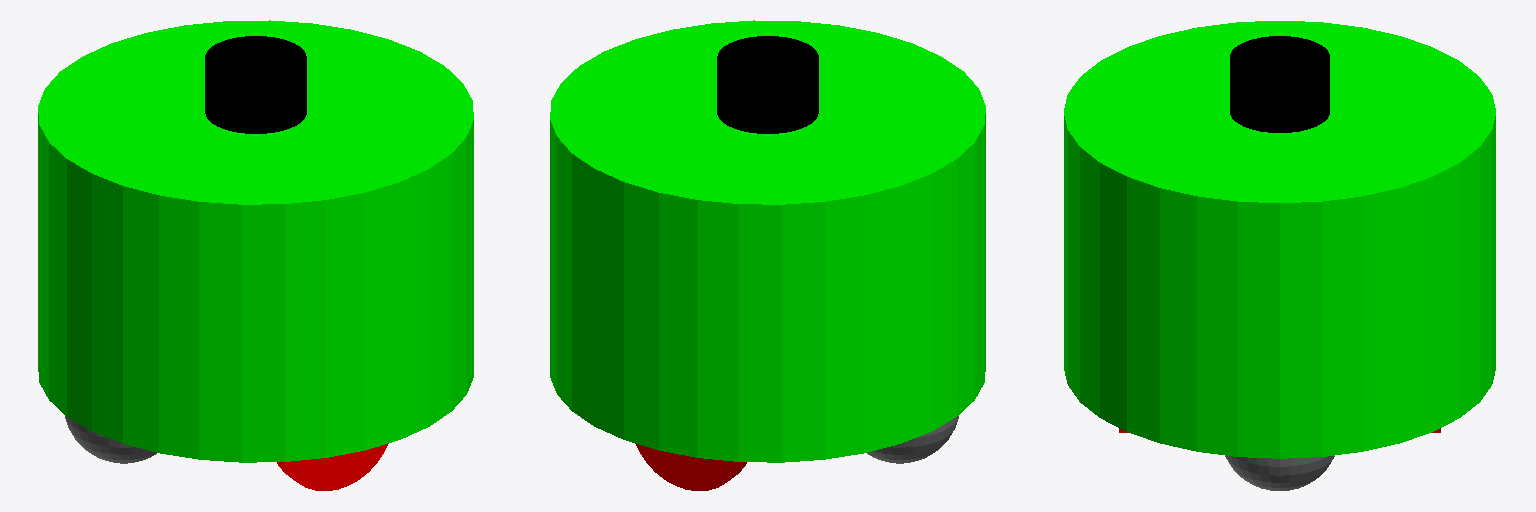
robot.urdf — barrelbot:
<?xml version="1.0" ?>
<!-- =================================================================================== -->
<!-- |    This document was autogenerated by xacro from barrelbot.xacro                | -->
<!-- |    EDITING THIS FILE BY HAND IS NOT RECOMMENDED                                 | -->
<!-- =================================================================================== -->
<robot name="barrelbot">
  <!--xacro:include filename="$(find littlebot)/urdf/_d435i.urdf.xacro"/-->
  <!-- Specify some standard inertial calculations https://en.wikipedia.org/wiki/List_of_moments_of_inertia -->
  <!-- These make use of xacro's mathematical functionality -->
  <!-- MATERIALS -->
  <material name="green">
    <color rgba="0 1 0 1"/>
  </material>
  <material name="black">
    <color rgba="0 0 0 1"/>
  </material>
  <material name="red">
    <color rgba="1 0 0 1"/>
  </material>
  <material name="gray">
    <color rgba="0.5 0.5 0.5 1"/>
  </material>
  <!-- base_footprint is a fictitious link(frame) that is on the ground right below base_link origin -->
  <!--link name="base_footprint" /-->
  <!-- BASE (CHASSIS) LINK -->
  <link name="base_link">
    <visual>
      <origin rpy="0 0 0" xyz="0 0 0.14"/>
      <!-- origin is located at the bottom in the center of the cylinder -->
      <geometry>
        <cylinder length="0.28" radius="0.215"/>
      </geometry>
      <material name="green"/>
    </visual>
    <collision>
      <origin rpy="0 0 0" xyz="0 0 0.14"/>
      <!-- origin is located at the bottom in the center of the cylinder -->
      <geometry>
        <cylinder length="0.28" radius="0.215"/>
      </geometry>
    </collision>
    <inertial>
      <origin rpy="0 0 0" xyz="0 0 0.14"/>
      <mass value="3.0"/>
      <inertia ixx="0.054268750000000004" ixy="0.0" ixz="0.0" iyy="0.054268750000000004" iyz="0.0" izz="0.0693375"/>
    </inertial>
  </link>
  <!--joint name="base_joint" type="fixed">
    <origin xyz="0 0 0.16" rpy="0 0 0" />
    <parent link="base_footprint"/>
    <child link="base_link"/>
  </joint-->
  <!-- LIDAR LINK -->
  <joint name="lidar_joint" type="fixed">
    <parent link="base_link"/>
    <child link="lidar_link"/>
    <origin rpy="0 0 0" xyz="0 0 0.31"/>
    <!-- z=0.31 = 0.14(vertical middle of robot body cylinder) +0.17-->
  </joint>
  <link name="lidar_link">
    <visual>
      <geometry>
        <cylinder length="0.06" radius="0.05"/>
      </geometry>
      <material name="black"/>
    </visual>
  </link>
  <!--joint name="base_to_camera" type="fixed">
    <parent link="base_link"/>
    <child link="camera_bottom_screw_frame"/>
    <origin xyz="0.17 0 0.17" rpy="0 0 0"/>
  </joint-->
  <!--link name="camera_link">
    <visual>
      <origin xyz="0 0 0" rpy="0 0 0" />
      <geometry>
        <box size="0.025 0.09 0.025"/>
      </geometry>
      <material name="gray"/>
    </visual>
  </link-->
  <!-- camera D435i model (<joint> block URDF is generated inside _d435i.urdf.xacro->_d435.urdf.xacro) -->
  <!--xacro:sensor_d435i parent="base_link" use_nominal_extrinsics="false">
    <origin xyz="0.17 0 0.31" rpy="0 0 0"/> (z=0.31 = 0.14(vertical middle of robot body cylinder +0.17)
  </xacro:sensor_d435i-->
  <!-- LEFT WHEEL LINK -->
  <joint name="left_wheel_joint" type="continuous">
    <parent link="base_link"/>
    <child link="left_wheel"/>
    <origin rpy="0 0 0" xyz="0 0.15 0"/>
    <!-- left wheel is located 15cm to the left of the center of the robot -->
    <axis xyz="0 1 0"/>
    <!-- axis of rotation is the y-axis -->
  </joint>
  <link name="left_wheel">
    <visual>
      <origin rpy="1.5707963267948966 0 0" xyz="0 0 0"/>
      <!-- pi/2 = 90 degrees or 1.57 radians (1 radian = 57.2958 degrees) -->
      <geometry>
        <cylinder length="0.02" radius="0.065"/>
        <!-- Diamater of the wheel is 130mm, width is 20mm -->
      </geometry>
      <material name="red"/>
    </visual>
    <collision>
      <origin rpy="1.5707963267948966 0 0" xyz="0 0 0"/>
      <!-- pi/2 = 90 degrees or 1.57 radians (1 radian = 57.2958 degrees) -->
      <geometry>
        <cylinder length="0.02" radius="0.065"/>
        <!-- Diamater of the wheel is 130mm, width is 20mm -->
      </geometry>
    </collision>
    <inertial>
      <origin rpy="1.5707963267948966 0 0" xyz="0 0 0"/>
      <mass value="0.1"/>
      <inertia ixx="0.00010895833333333333" ixy="0.0" ixz="0.0" iyy="0.00010895833333333333" iyz="0.0" izz="0.00021125000000000004"/>
    </inertial>
  </link>
  <!-- RIGHT WHEEL LINK -->
  <joint name="right_wheel_joint" type="continuous">
    <parent link="base_link"/>
    <child link="right_wheel"/>
    <origin rpy="0 0 0" xyz="0 -0.15 0"/>
    <!-- right wheel is located 15cm to the right of the center of the robot -->
    <axis xyz="0 1 0"/>
    <!-- axis of rotation is the y-axis -->
  </joint>
  <link name="right_wheel">
    <visual>
      <origin rpy="1.5707963267948966 0 0" xyz="0 0 0"/>
      <!-- pi/2 = 90 degrees or 1.57 radians (1 radian = 57.2958 degrees) -->
      <geometry>
        <cylinder length="0.02" radius="0.065"/>
        <!-- Diamater of the wheel is 130mm, width is 20mm -->
      </geometry>
      <material name="red"/>
    </visual>
    <collision>
      <origin rpy="1.5707963267948966 0 0" xyz="0 0 0"/>
      <!-- pi/2 = 90 degrees or 1.57 radians (1 radian = 57.2958 degrees) -->
      <geometry>
        <cylinder length="0.02" radius="0.065"/>
        <!-- Diamater of the wheel is 130mm, width is 20mm -->
      </geometry>
    </collision>
    <inertial>
      <origin rpy="1.5707963267948966 0 0" xyz="0 0 0"/>
      <mass value="0.1"/>
      <inertia ixx="0.00010895833333333333" ixy="0.0" ixz="0.0" iyy="0.00010895833333333333" iyz="0.0" izz="0.00021125000000000004"/>
    </inertial>
  </link>
  <!-- FRONT CASTER WHEEL LINK-->
  <joint name="caster_front_wheel_joint" type="fixed">
    <parent link="base_link"/>
    <child link="caster_front_wheel"/>
    <origin rpy="0 0 0" xyz="0.15 0 0"/>
    <!-- caster wheel is located 15cm to the front of the center of the robot -->
  </joint>
  <link name="caster_front_wheel">
    <visual>
      <origin rpy="0 0 0" xyz="0 0 0"/>
      <geometry>
        <sphere radius="0.06"/>
      </geometry>
      <material name="gray"/>
    </visual>
    <collision>
      <origin rpy="0 0 0" xyz="0 0 0"/>
      <geometry>
        <sphere radius="0.06"/>
      </geometry>
    </collision>
    <inertial>
      <origin rpy="0 0 0" xyz="0 0 0"/>
      <mass value="0.1"/>
      <inertia ixx="0.00014400000000000003" ixy="0.0" ixz="0.0" iyy="0.00014400000000000003" iyz="0.0" izz="0.00014400000000000003"/>
    </inertial>
  </link>
  <!-- BACK CASTER WHEEL LINK-->
  <joint name="caster_back_wheel_joint" type="fixed">
    <parent link="base_link"/>
    <child link="caster_back_wheel"/>
    <origin rpy="0 0 0" xyz="-0.15 0 0"/>
    <!-- caster wheel is located 15cm to the back of the center of the robot -->
  </joint>
  <link name="caster_back_wheel">
    <visual>
      <origin rpy="0 0 0" xyz="0 0 0"/>
      <geometry>
        <sphere radius="0.06"/>
      </geometry>
      <material name="gray"/>
    </visual>
    <collision>
      <origin rpy="0 0 0" xyz="0 0 0"/>
      <geometry>
        <sphere radius="0.06"/>
      </geometry>
    </collision>
    <inertial>
      <origin rpy="0 0 0" xyz="0 0 0"/>
      <mass value="0.1"/>
      <inertia ixx="0.00014400000000000003" ixy="0.0" ixz="0.0" iyy="0.00014400000000000003" iyz="0.0" izz="0.00014400000000000003"/>
    </inertial>
  </link>
</robot>

--- What the picture shows (computed from the rendered views, not written in the file) ---
3 views of the same robot in one strip: view 1: azimuth 30°, elevation 25°; view 2: azimuth 150°, elevation 25°; view 3: azimuth 270°, elevation 25° (orthographic).
Robot: barrelbot — 6 links, 5 joints (2 continuous, 3 fixed); root link base_link; default pose: all joints at 0.
Visible links, largest first — view 1: base_link, lidar_link, right_wheel, caster_back_wheel; view 2: base_link, lidar_link, left_wheel, caster_back_wheel; view 3: base_link, lidar_link, caster_front_wheel.
Boxes of the visible links, left/top/right/bottom form: base_link: left=38, top=20, right=473, bottom=462; lidar_link: left=205, top=36, right=306, bottom=133; right_wheel: left=277, top=443, right=388, bottom=490; caster_back_wheel: left=65, top=416, right=156, bottom=463; base_link: left=550, top=20, right=985, bottom=462; lidar_link: left=717, top=36, right=818, bottom=133; left_wheel: left=635, top=443, right=746, bottom=490; caster_back_wheel: left=867, top=416, right=958, bottom=463; base_link: left=1064, top=21, right=1495, bottom=458; lidar_link: left=1230, top=36, right=1329, bottom=132; caster_front_wheel: left=1225, top=456, right=1334, bottom=490.
Bounding box of the posed robot: 0.43 × 0.43 × 0.405 m (x, y, z).
Geometry: primitives only (box / cylinder / sphere), no mesh files.